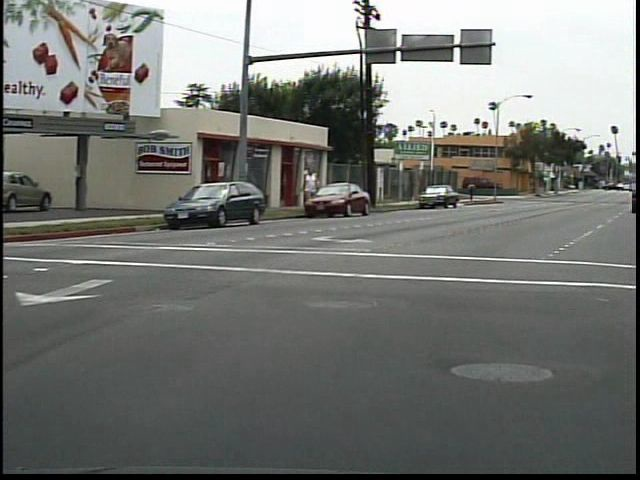person: (306, 161, 330, 213), (471, 179, 483, 205)
